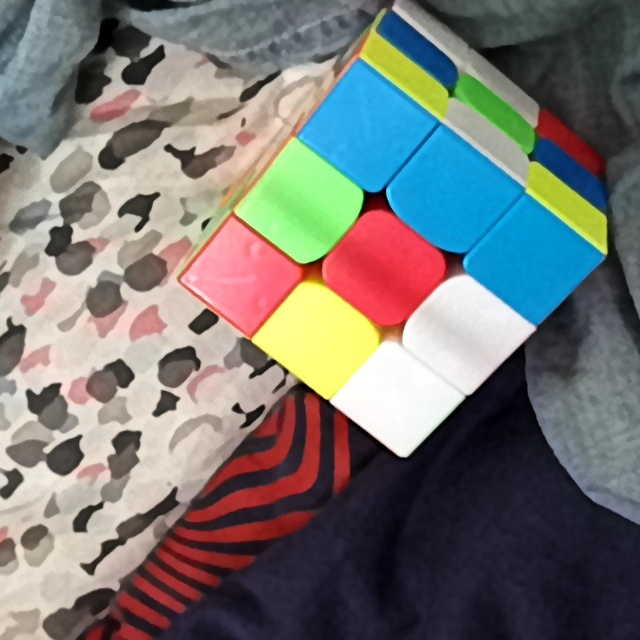tile: (429, 298, 497, 366), (329, 98, 397, 165), (349, 236, 415, 305), (416, 165, 483, 232), (270, 174, 334, 241), (497, 230, 565, 293), (289, 310, 351, 370), (366, 369, 427, 427), (214, 248, 274, 305)
